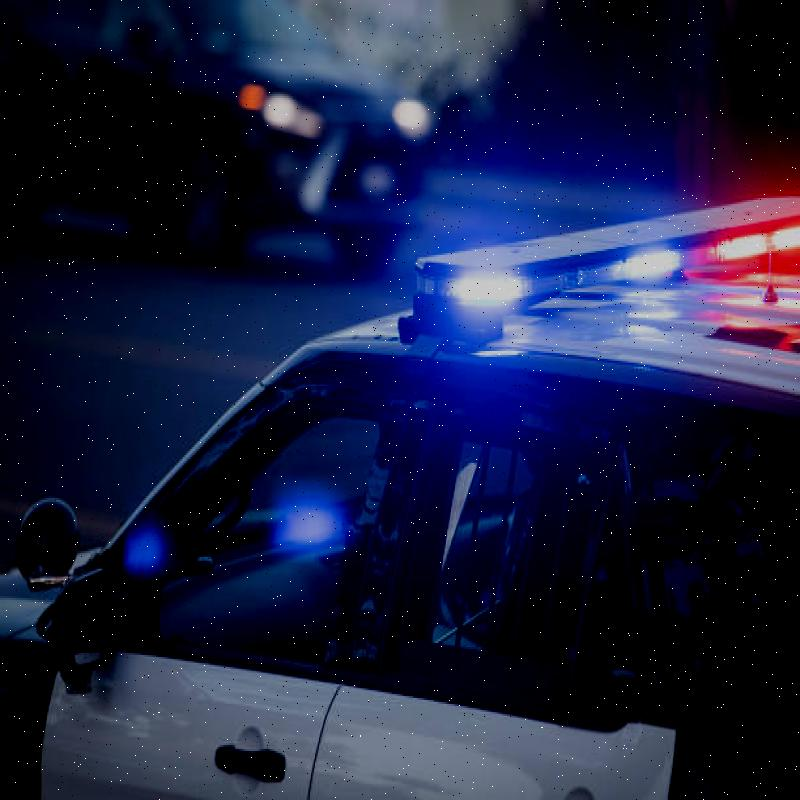AmbulanceSiren: (393, 162, 800, 358)
